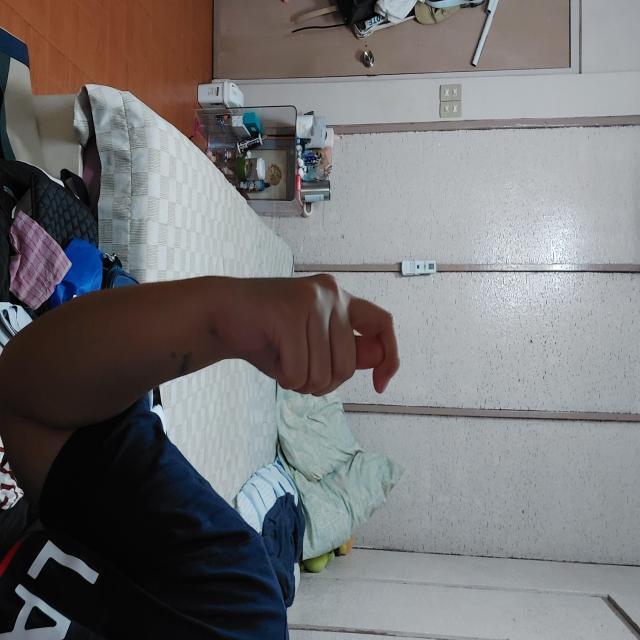T: (272, 238, 398, 427)
